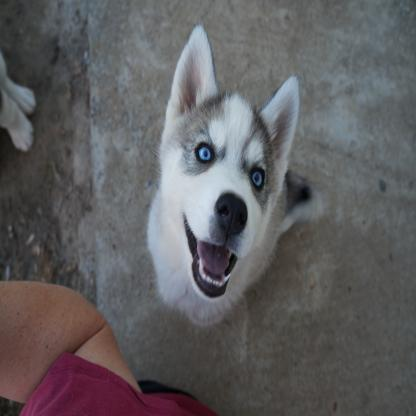dog: (141, 26, 308, 338)
